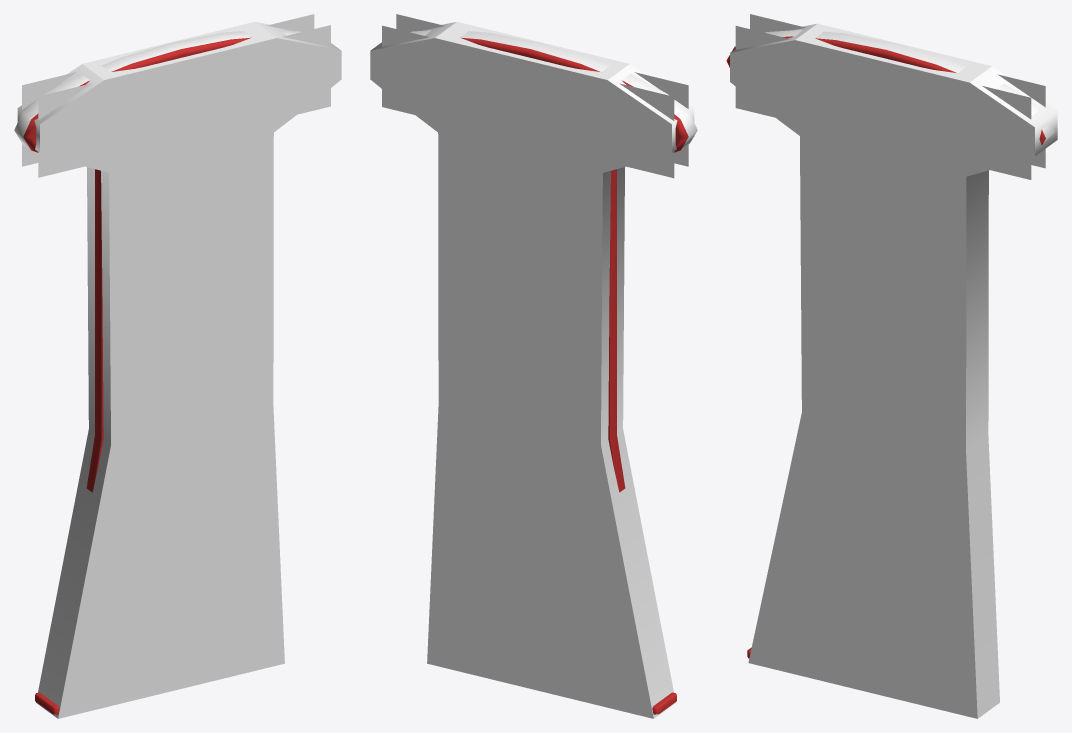
The model's file is eca_gastation_pricedisplay.DAE.
3 renders of one model, left to right at view 1: azimuth 30°, elevation 25°; view 2: azimuth 150°, elevation 25°; view 3: azimuth 330°, elevation 25°, orthographic.
Parts seen in each view (by area): view 1: Colmesh-1, eca_gastation_pricedisplay350; view 2: Colmesh-1, eca_gastation_pricedisplay350; view 3: Colmesh-1, eca_gastation_pricedisplay350.
Part boxes in pixels (left/top/right/bottom): Colmesh-1: left=17, top=22, right=341, bottom=718; eca_gastation_pricedisplay350: left=14, top=14, right=330, bottom=714; Colmesh-1: left=370, top=22, right=694, bottom=718; eca_gastation_pricedisplay350: left=382, top=14, right=697, bottom=714; Colmesh-1: left=730, top=23, right=1057, bottom=718; eca_gastation_pricedisplay350: left=726, top=14, right=1054, bottom=658.
Size of the model in its own units: 3.04 by 0.3698 by 5.82.
